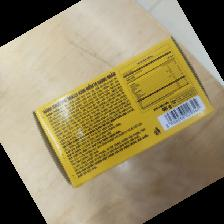Molle: (32, 35, 215, 191)
